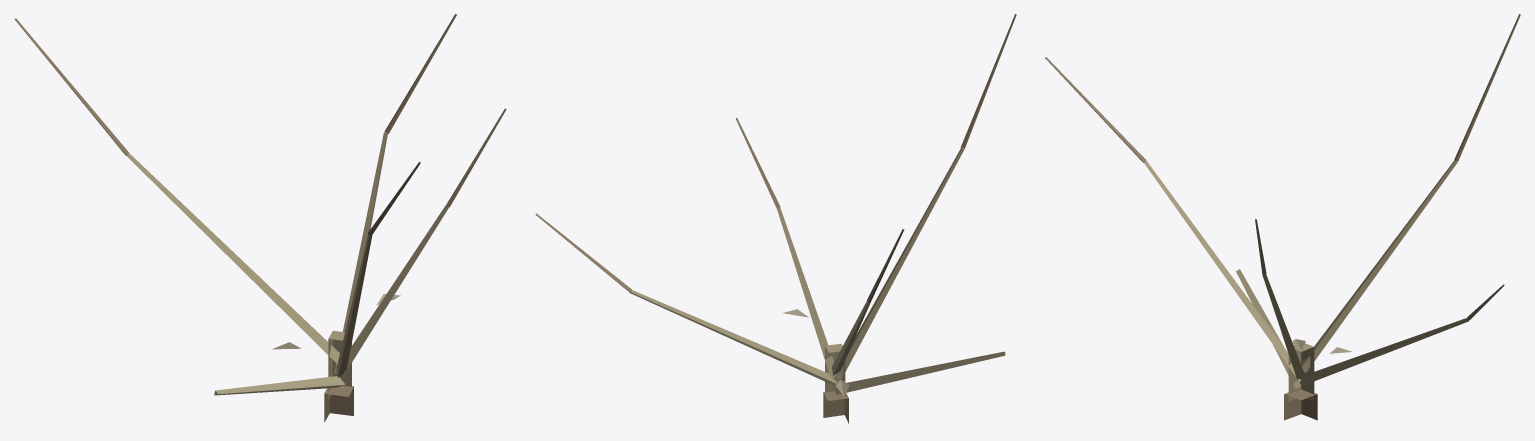
Rendered from shu.luoye@withered__summer.glb.
The picture shows the model from 3 angles, left to right: view 1: azimuth 30°, elevation 25°; view 2: azimuth 150°, elevation 25°; view 3: azimuth 270°, elevation 25°; orthographic projection. The views are drawn at different scales.
Visible parts, largest first — view 1: shu.luoye@withered__summer; view 2: shu.luoye@withered__summer; view 3: shu.luoye@withered__summer.
Part boxes in pixels (box(x1,y1,x2,y2)): shu.luoye@withered__summer: box(14, 14, 506, 422); shu.luoye@withered__summer: box(535, 14, 1016, 423); shu.luoye@withered__summer: box(1045, 14, 1520, 420).
Size of the model in its own units: 7.54 by 6.29 by 8.07.
